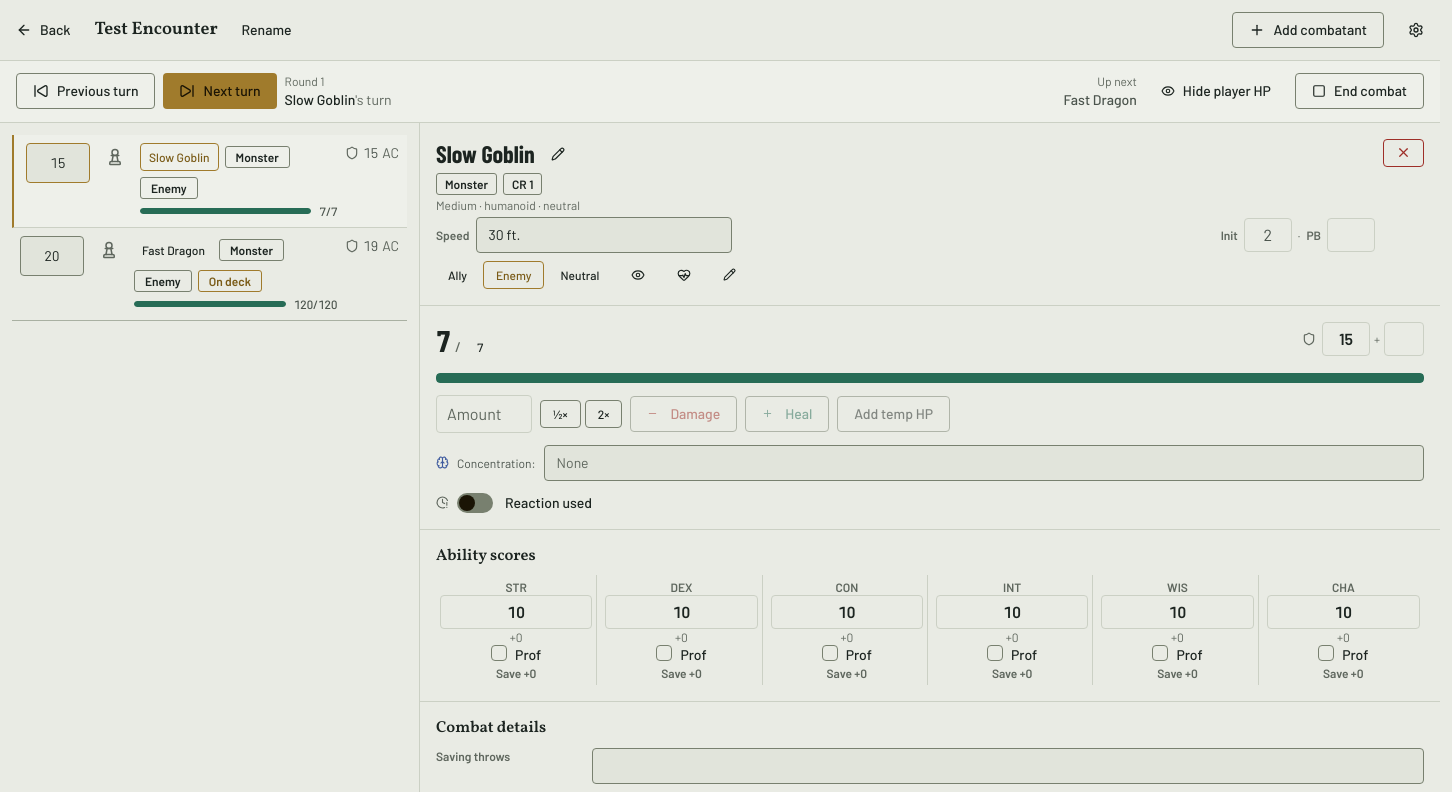
Scenario: CombatScreen › switching detail entity resets speed input (key prevents stale defaultValue)
Expected: the field named "speed" holds "30 ft.", [476,217,732,253]
// The named row control selects Fast Dragon without nesting the other controls.
Click the button named "Fast Dragon details" at {"x": 173, "y": 250}, box [134,236,213,264]
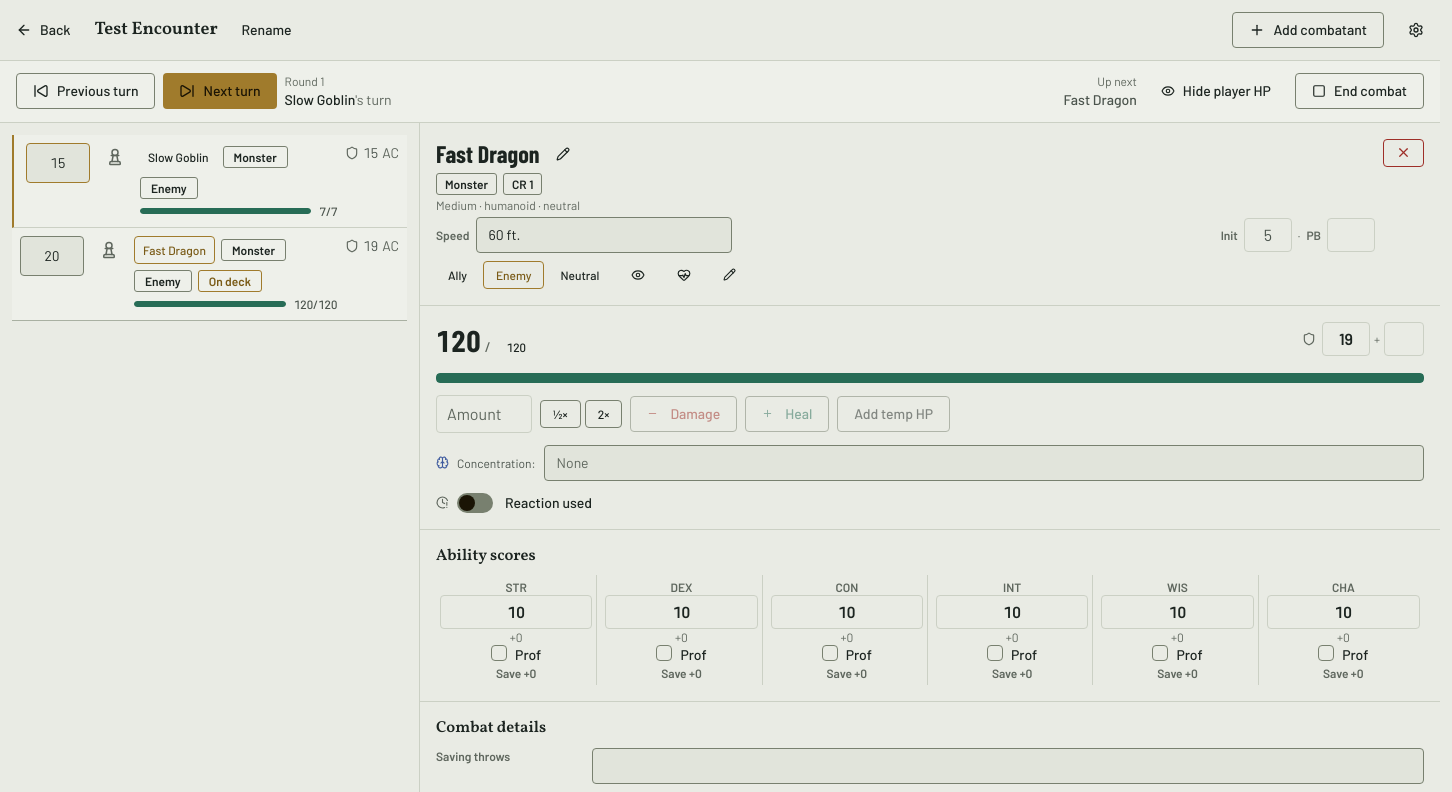
Expected: the field named "speed" holds "60 ft.", [476,217,732,253]
